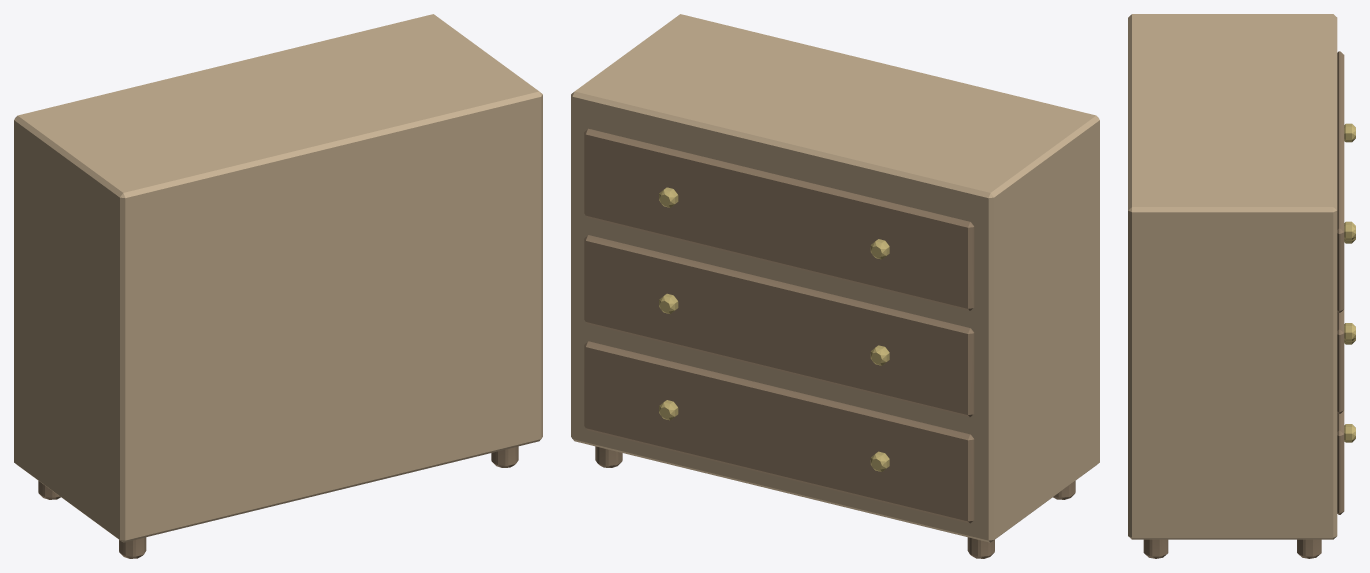
The model's file is furn_dresser__oak.glb.
3 views of the same model, side by side, from view 1: azimuth 30°, elevation 25°; view 2: azimuth 150°, elevation 25°; view 3: azimuth 270°, elevation 25° (orthographic). The views are drawn at different scales.
Bounding box in the file's own units: 1 × 0.85 × 0.49.
